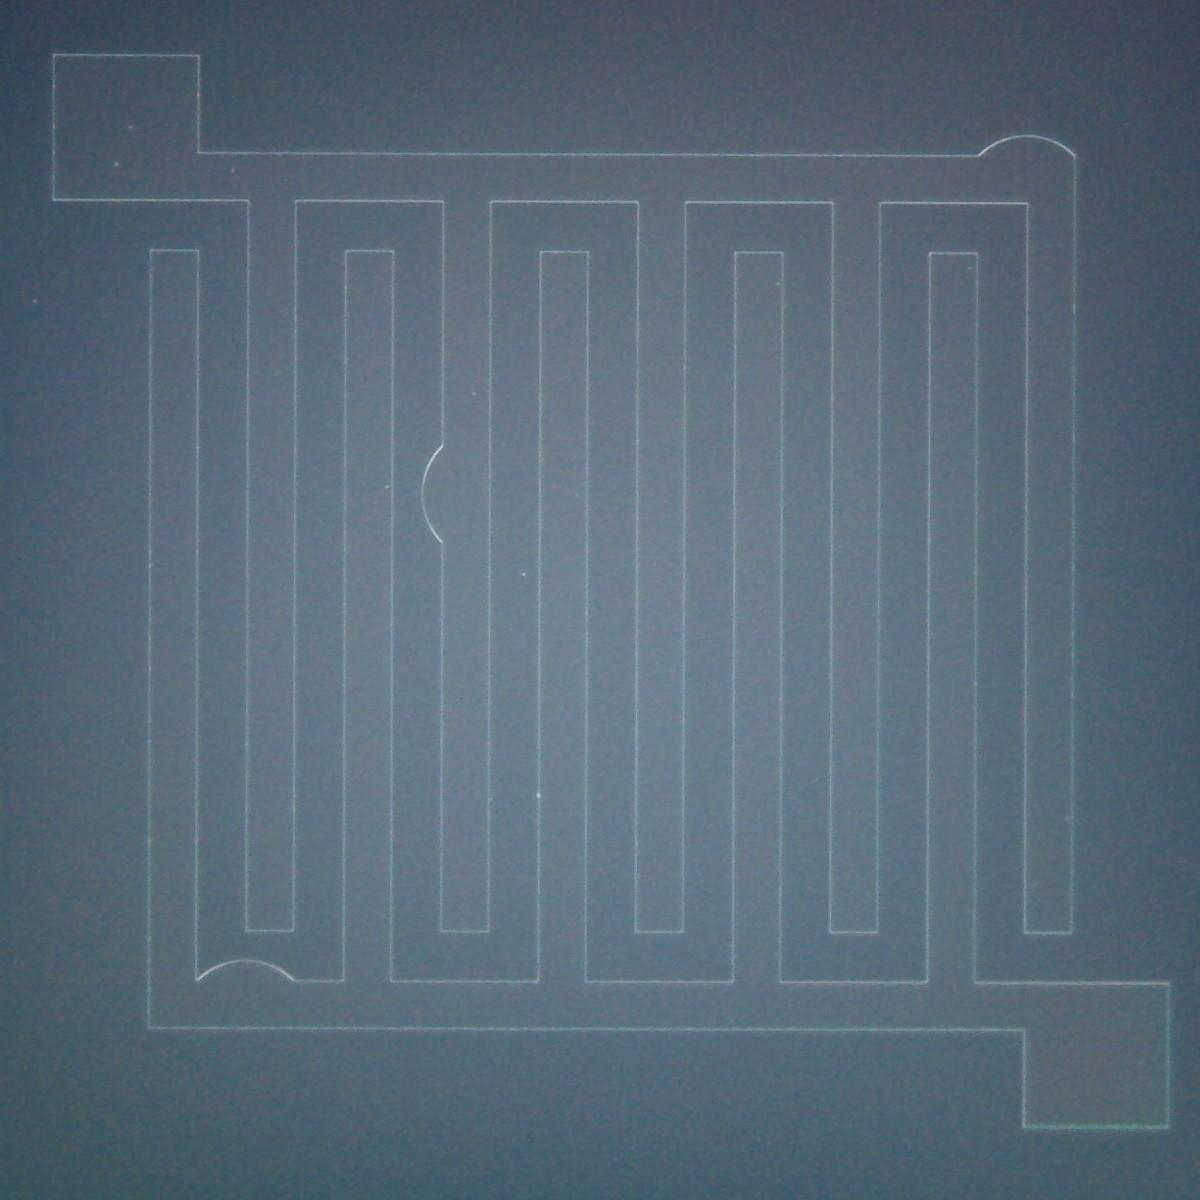project: (167, 946, 312, 1013), (967, 122, 1096, 181), (415, 432, 467, 560)
s_point: (1059, 812, 1074, 827), (532, 789, 546, 801), (144, 560, 156, 573), (111, 159, 123, 170), (125, 122, 136, 134), (467, 388, 478, 400), (227, 165, 238, 176), (773, 279, 784, 289), (30, 297, 40, 307), (520, 570, 529, 580), (964, 265, 975, 273), (384, 482, 392, 491)
